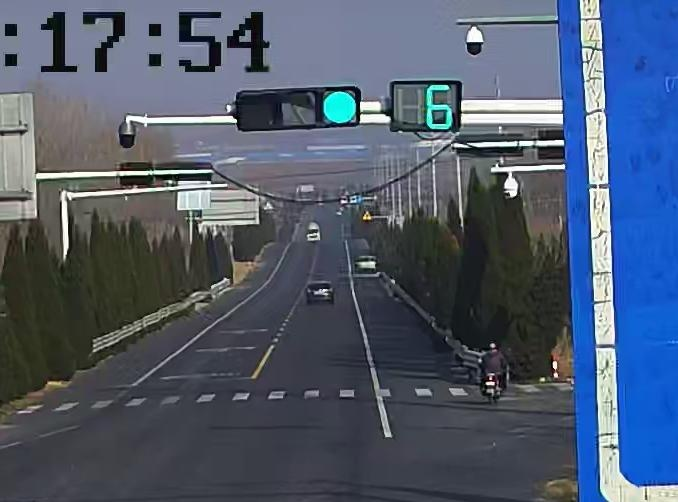green: (320, 90, 360, 125)
greentime: (423, 84, 457, 131)
